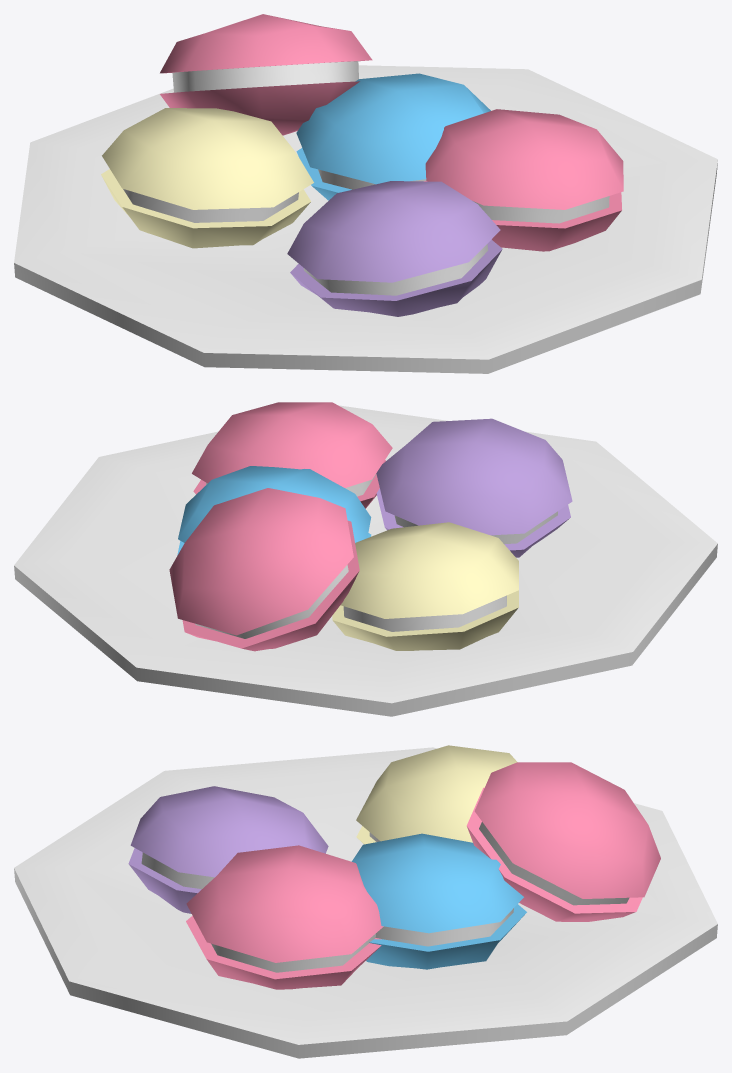
File: paper.glb
3 renders of one model, top to bottom at view 1: azimuth 30°, elevation 25°; view 2: azimuth 150°, elevation 25°; view 3: azimuth 270°, elevation 25°, orthographic. The views are drawn at different scales.
Parts seen in each view (by area): view 1: dish_001; view 2: dish_001; view 3: dish_001.
Part boxes in pixels (x1,y1,x2,y2): dish_001: (14, 14, 717, 373); dish_001: (14, 402, 717, 716); dish_001: (14, 745, 717, 1058).
Size of the model in its own units: 0.2193 by 0.0549 by 0.2193.
1 material, 1 textured.
